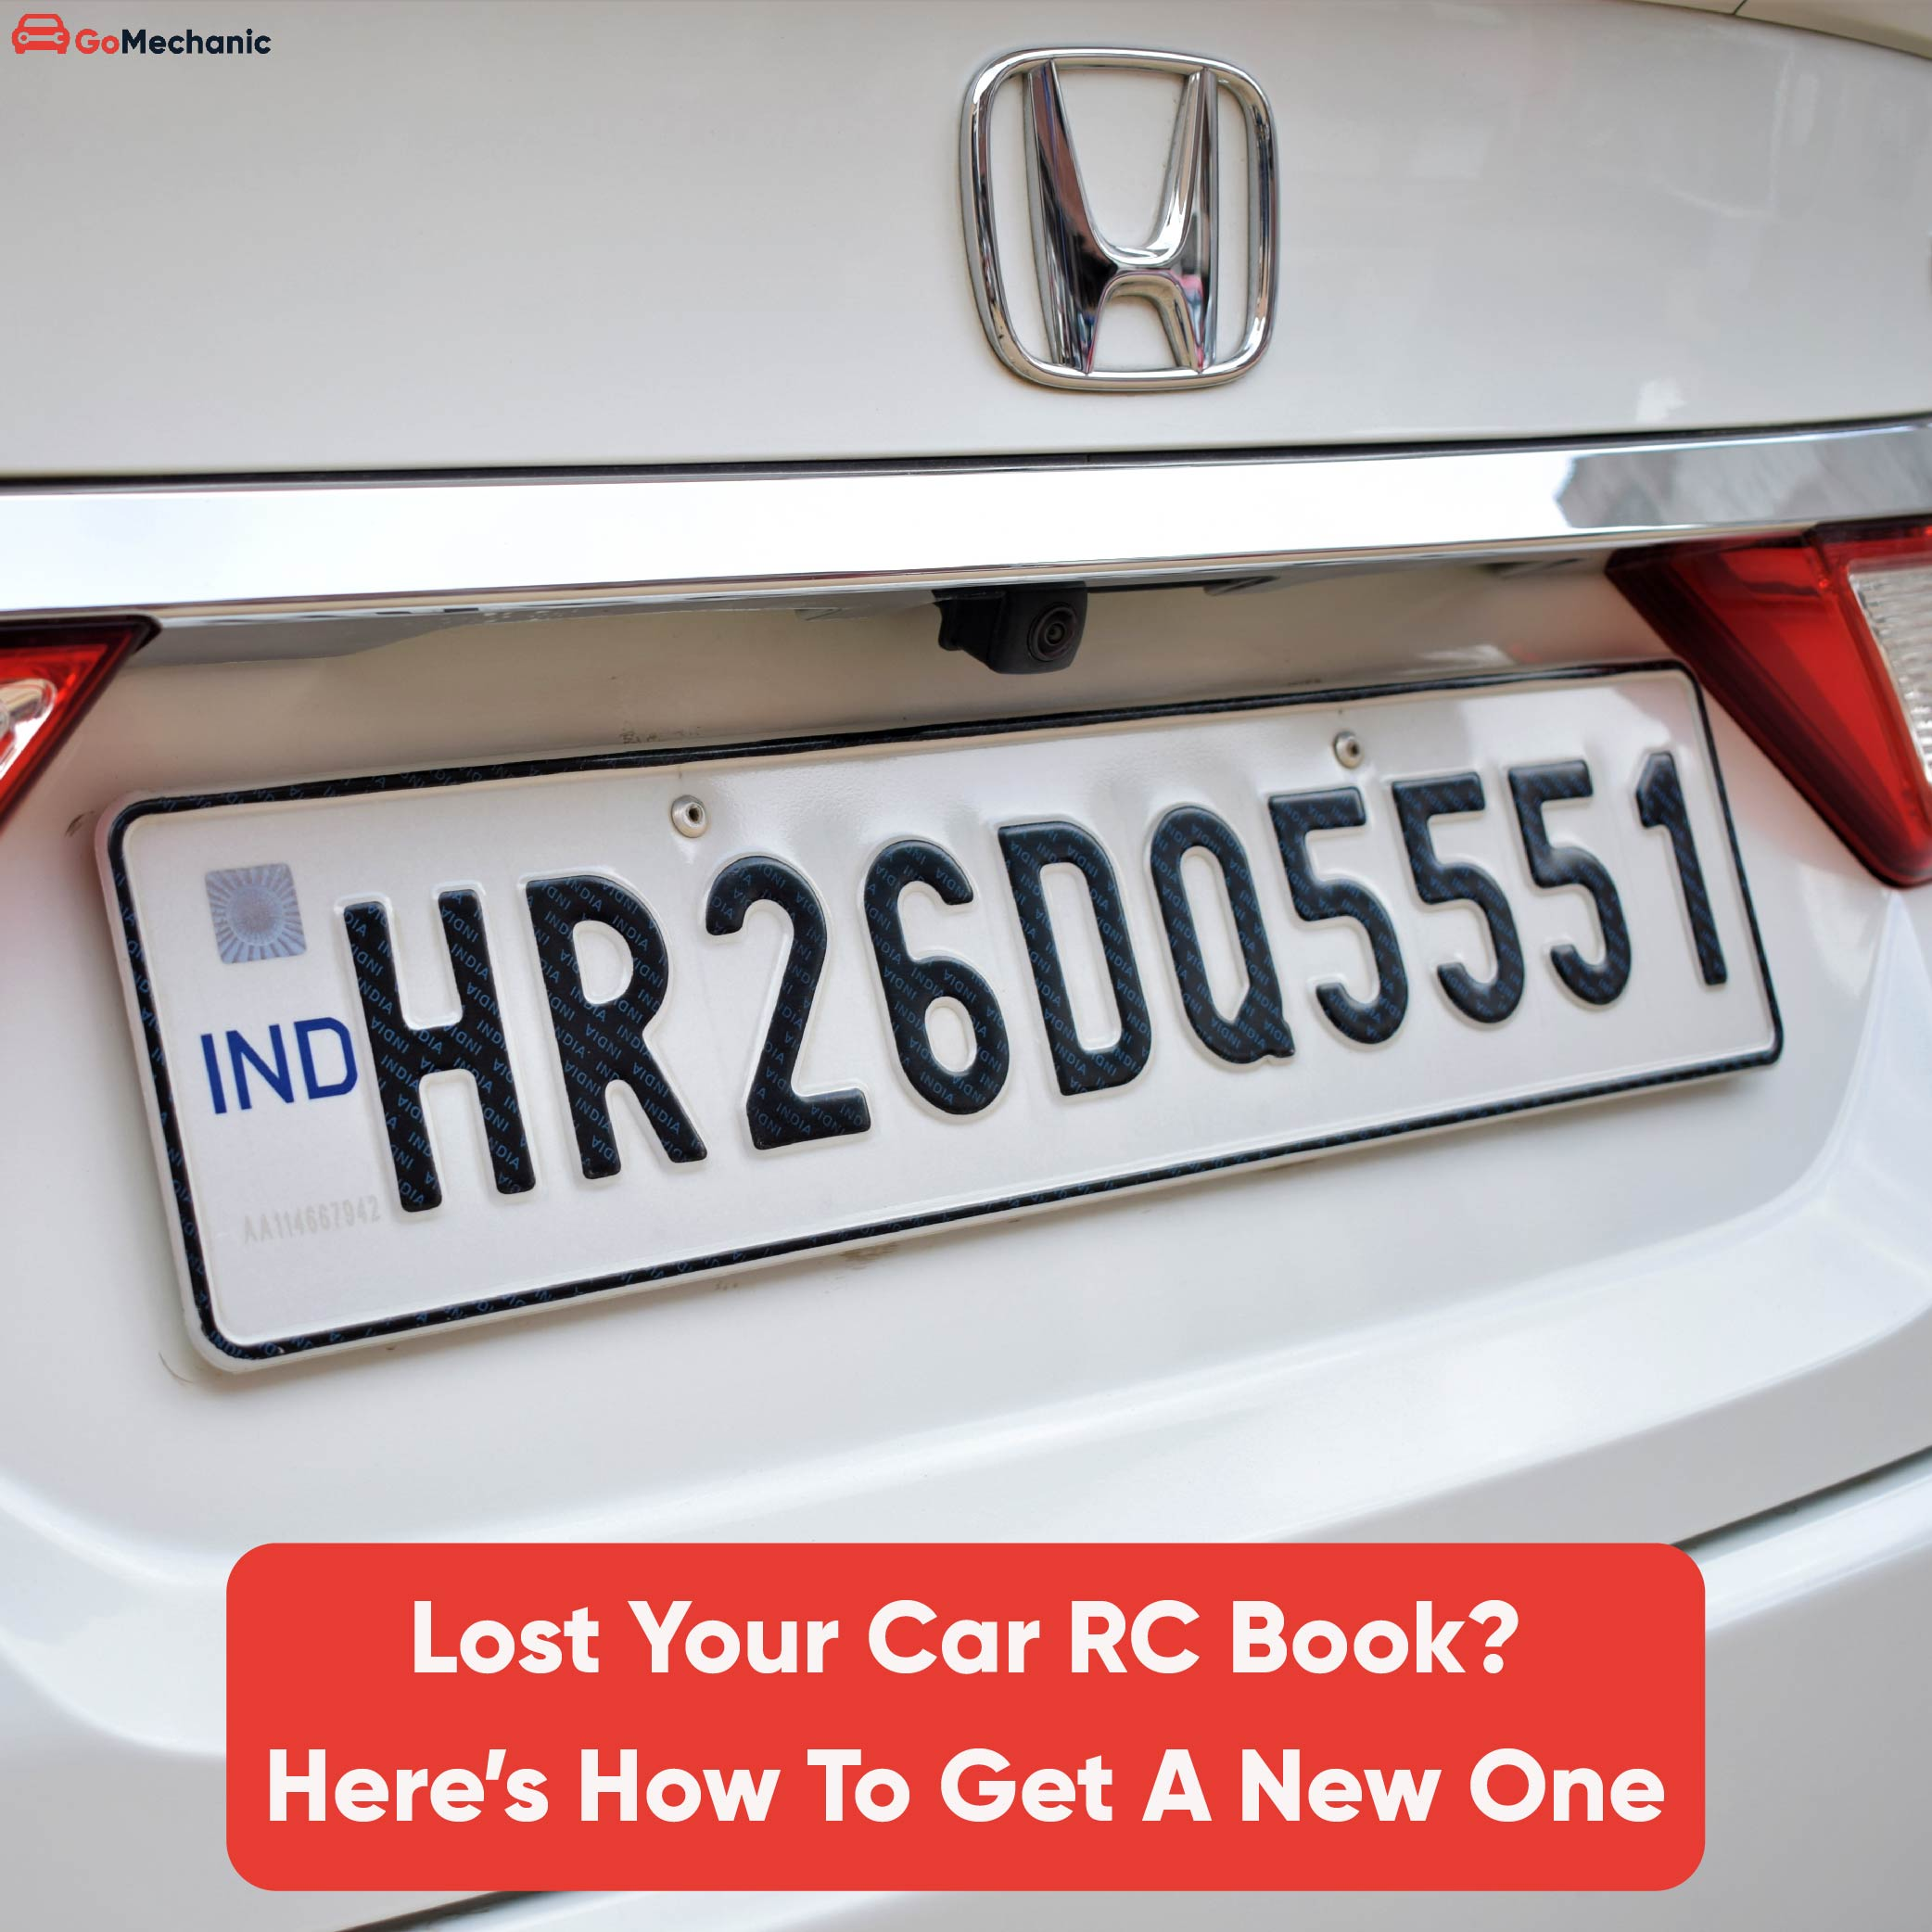numberplate: (103, 667, 1784, 1379)
